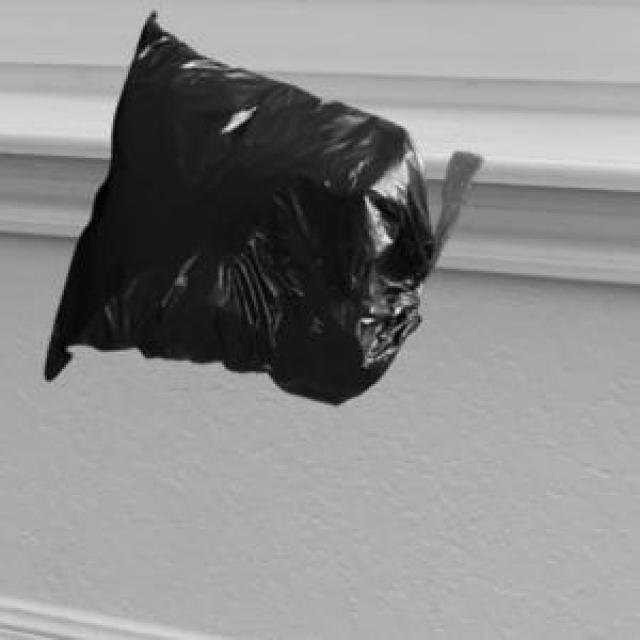miscellaneous trash: (41, 9, 478, 401)
